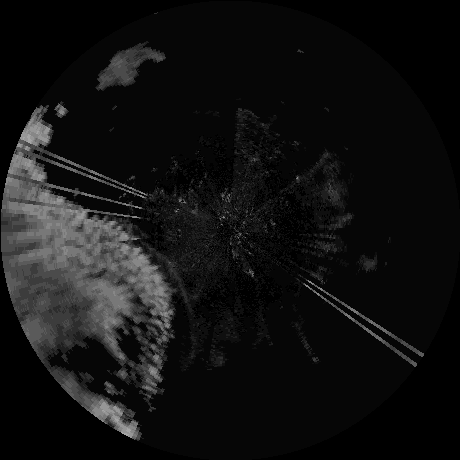frontgust: (140, 242, 197, 323)
